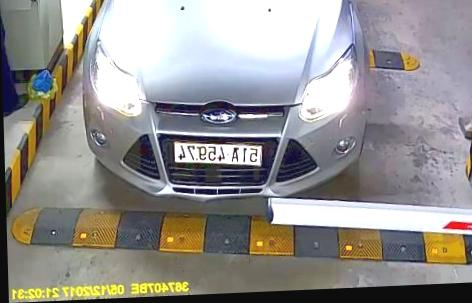License_Plate: (170, 136, 263, 171)
